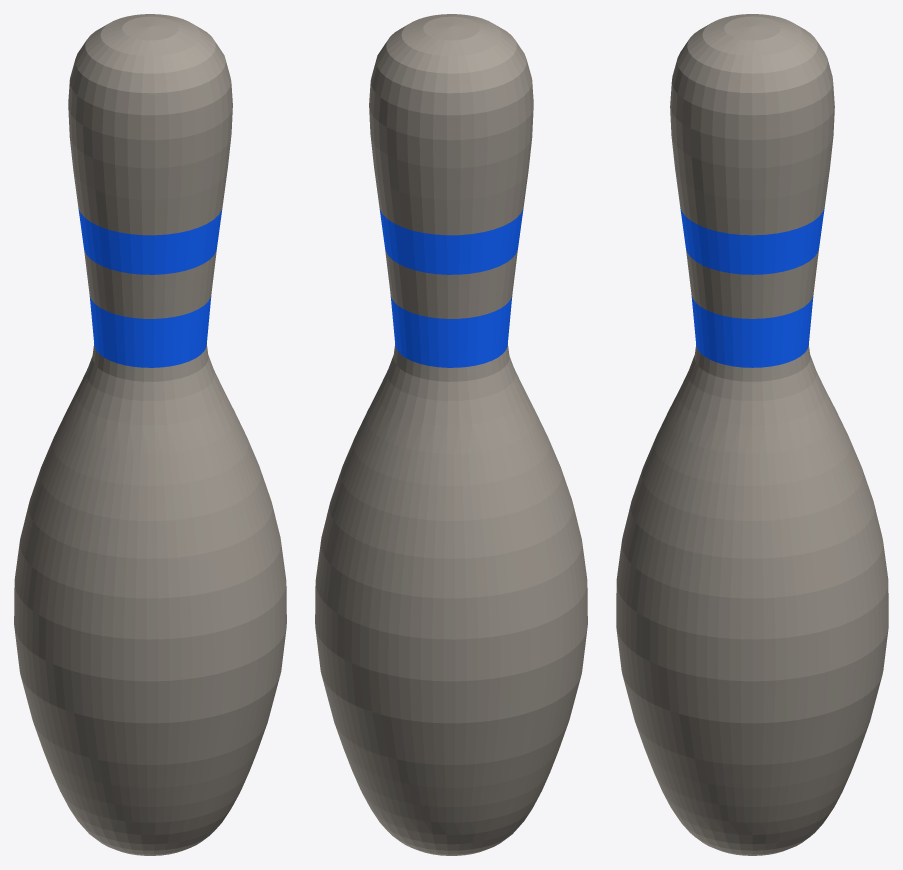
The model's file is bowling pin.fbx.
3 views of the same model, side by side, from view 1: azimuth 30°, elevation 25°; view 2: azimuth 150°, elevation 25°; view 3: azimuth 270°, elevation 25° (orthographic).
Parts seen in each view (by area): view 1: Pin; view 2: Pin; view 3: Pin.
Boxes of the visible parts, x1,y1,x2,y2 form: Pin: (14,14,286,855); Pin: (315,14,587,855); Pin: (616,14,888,855).
Size of the model in its own units: 115 by 380 by 115.
